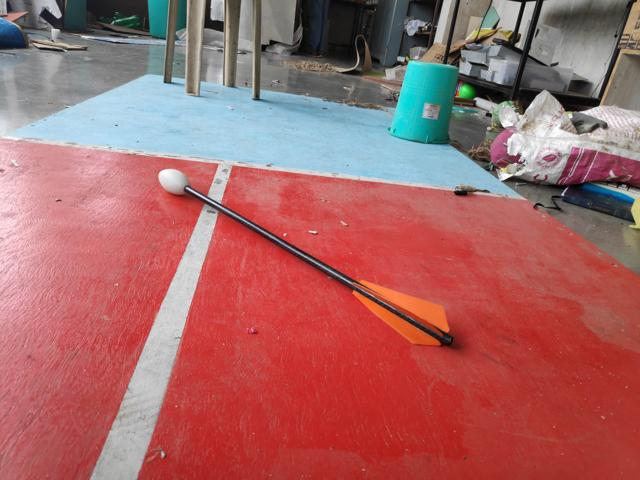Head: (155, 166, 191, 195)
Tail: (347, 272, 458, 347)
